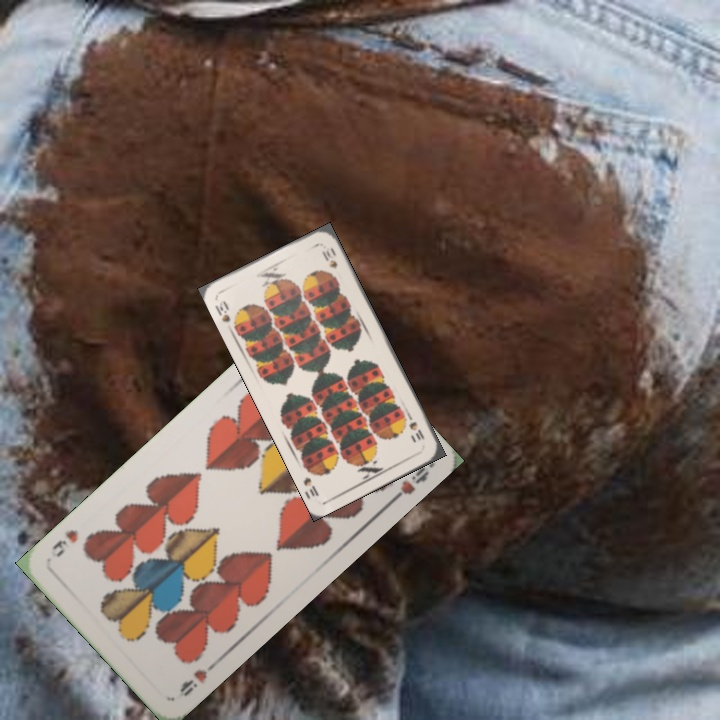H9: (175, 656, 221, 700)
S10: (403, 410, 427, 443), (211, 296, 233, 325)
